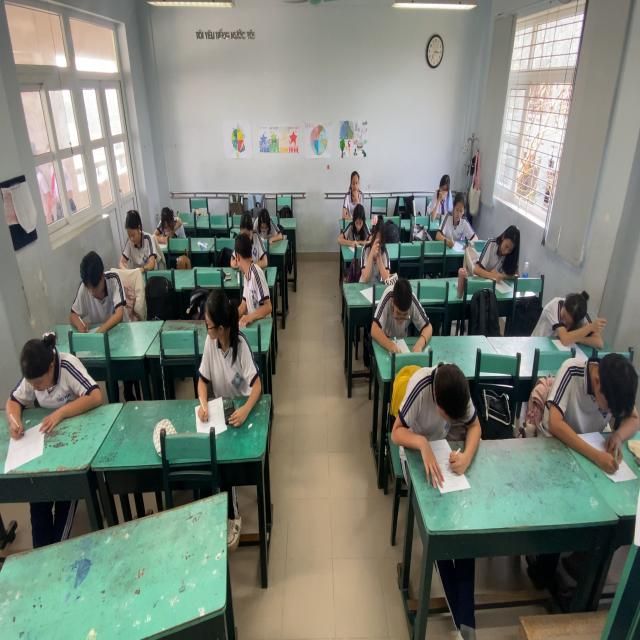cheating: (199, 289, 263, 419), (231, 239, 271, 322)
not_cheating: (9, 327, 97, 423), (556, 342, 628, 438), (409, 360, 470, 448), (80, 251, 124, 336), (381, 276, 431, 348), (539, 276, 593, 340), (115, 202, 149, 284), (359, 214, 394, 276), (481, 216, 515, 276), (444, 188, 476, 245), (419, 172, 452, 221), (255, 201, 288, 248), (337, 167, 371, 211), (154, 193, 178, 247), (344, 208, 375, 247), (236, 213, 262, 254)
